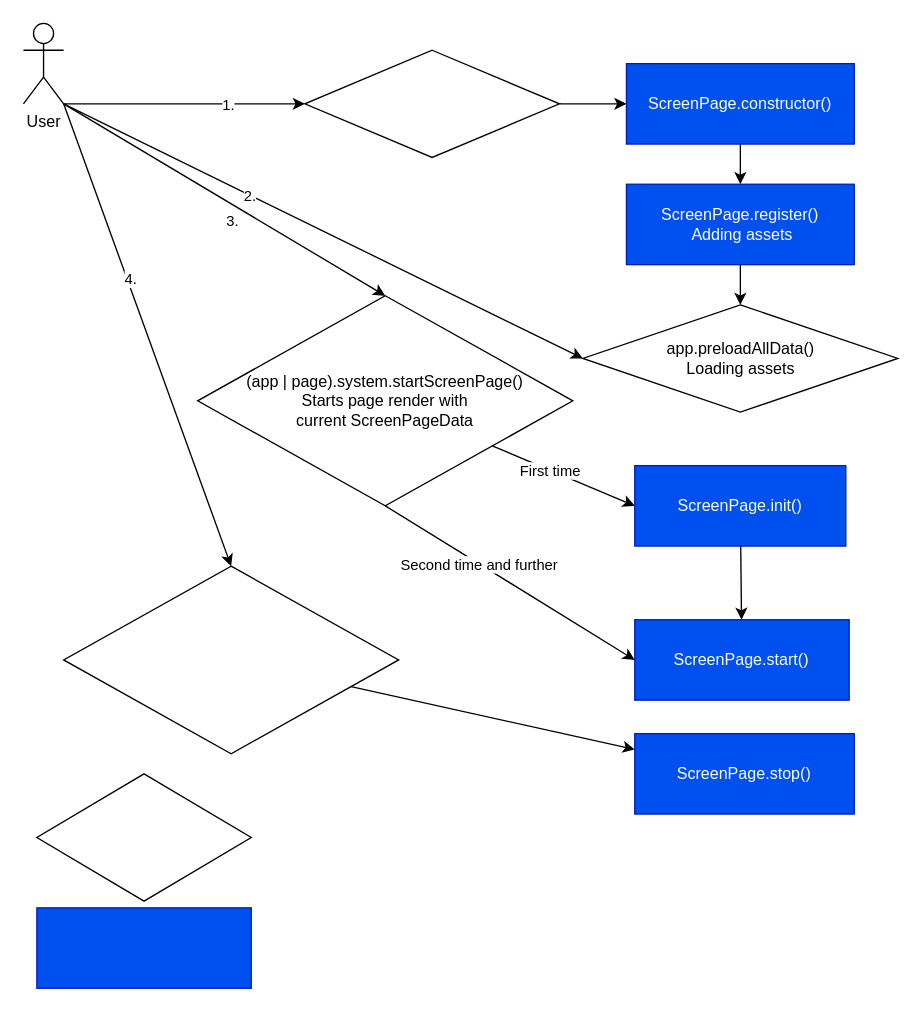
Image size: 922x1012. Some labels were removed from this diagram. Each missing label, with the centre of its shape:
(app | page).system.stopScreenPage() Stop page render: point 230,659
app.regsterPage(): point 431,103
ScreenPage methods to overwrite: point 143,947
User methods for control the ScrenPages state: point 143,837
